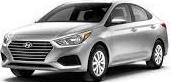Cars: (2, 3, 168, 80)
